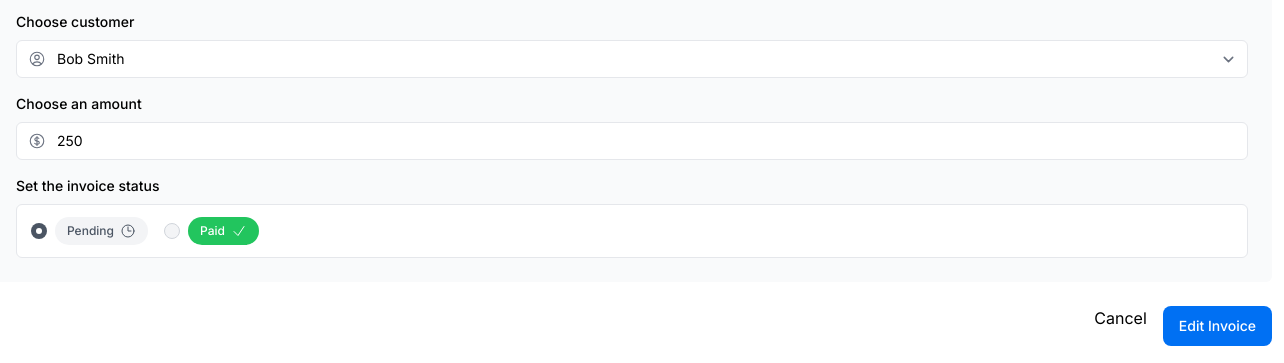
Scenario: Invoice Edit Form › should allow user to change status
Expected: the radio button labelled "Pending" is checked, [31,223,47,239]
Change to paid
Click the radio button labelled "Paid": (172, 231) [164,223,180,239]
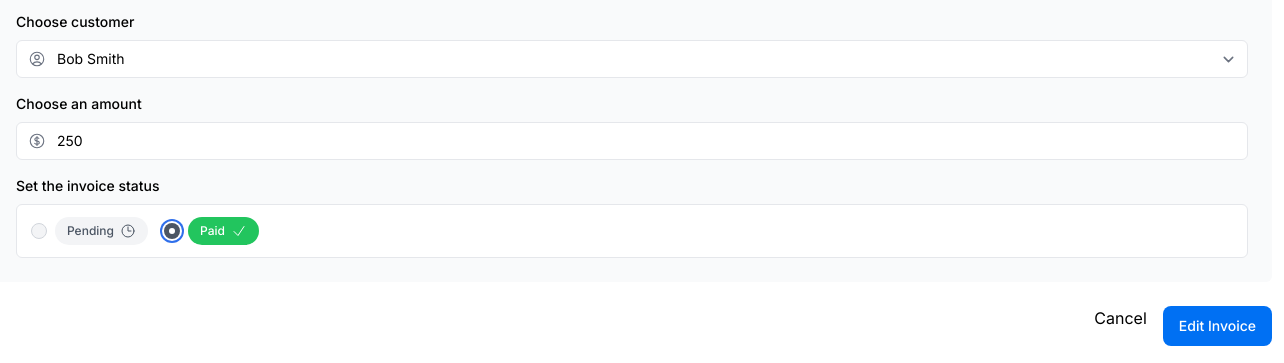
Expected: the radio button labelled "Paid" is checked, [164,223,180,239]
Expected: the radio button labelled "Pending" is not checked, [31,223,47,239]
